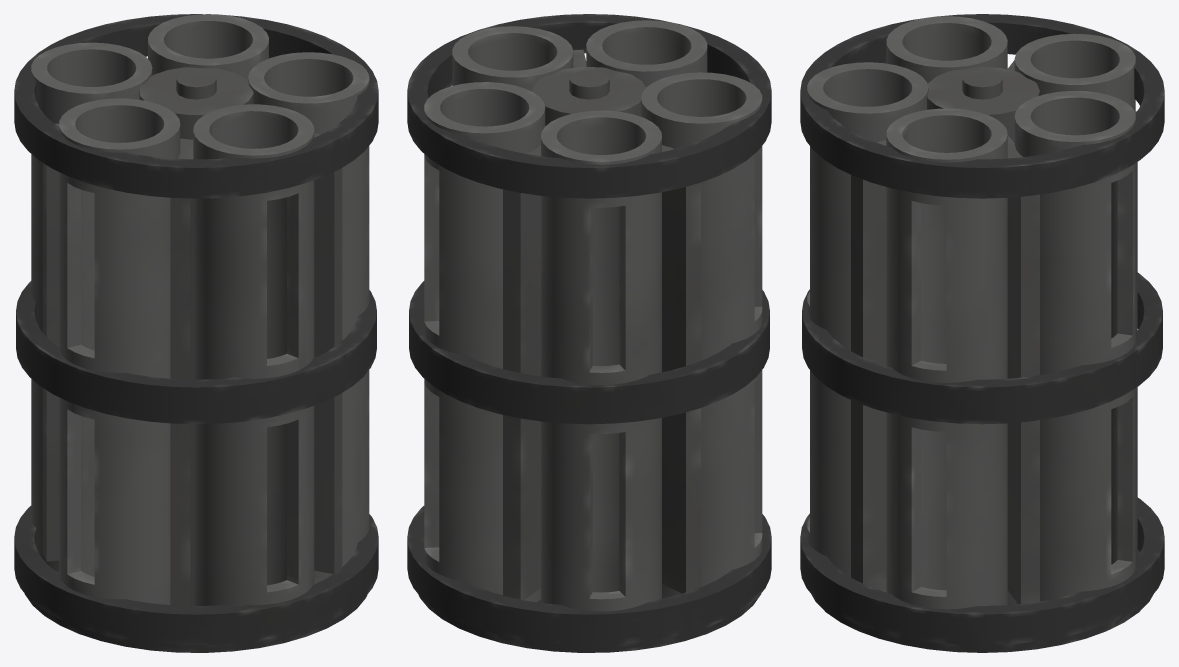
File: Mortar50_CellEmpty.fbx
3 views of the same model, side by side, from view 1: azimuth 30°, elevation 25°; view 2: azimuth 150°, elevation 25°; view 3: azimuth 270°, elevation 25° (orthographic).
Visible parts, largest first — view 1: Mortar50_CellEmpty_LOD0; view 2: Mortar50_CellEmpty_LOD0; view 3: Mortar50_CellEmpty_LOD0.
Part boxes in pixels (<box>): Mortar50_CellEmpty_LOD0: <box>14,14,378,652</box>; Mortar50_CellEmpty_LOD0: <box>407,14,771,652</box>; Mortar50_CellEmpty_LOD0: <box>800,14,1164,652</box>.
Size of what is drawn, in the model's own units: 21.6 by 32.8 by 21.6.
